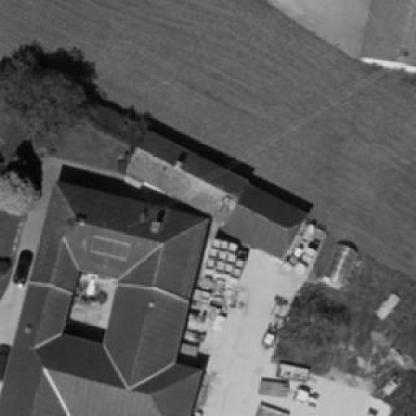solar-pv-panel: (93, 239, 128, 259)
